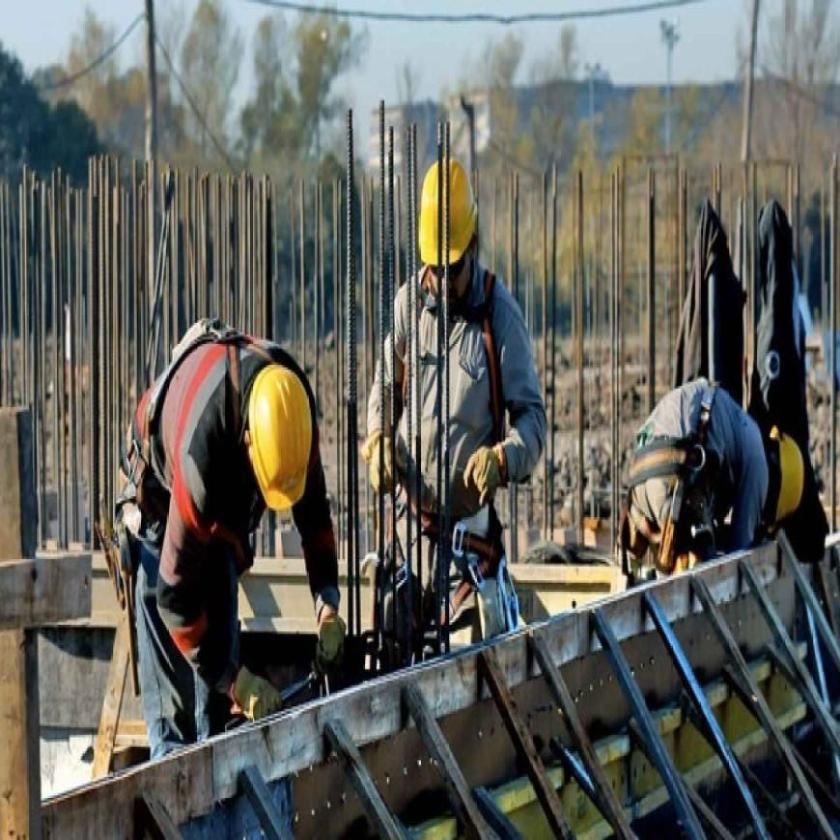Con_casco: (248, 363, 319, 519), (416, 153, 479, 315), (764, 415, 808, 530)
